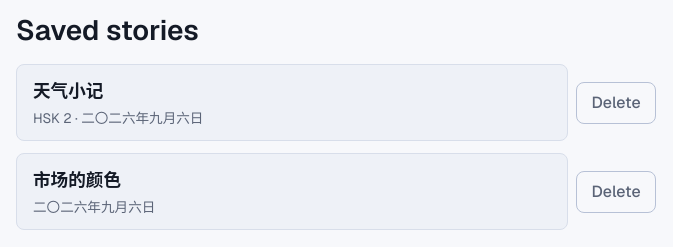
Test: StoriesPage › deleting a story › shows an accessible error and keeps the story when the delete fails
This screenshot has width=673, height=247.
Expected: the link "天气小记 HSK 2 · 二〇二六年九月六日" is shown, x1=16 y1=64 x2=568 y2=141
Step 1. Click the button "Delete" in the row of "天气小记" → click(616, 103), box x1=576 y1=82 x2=656 y2=124
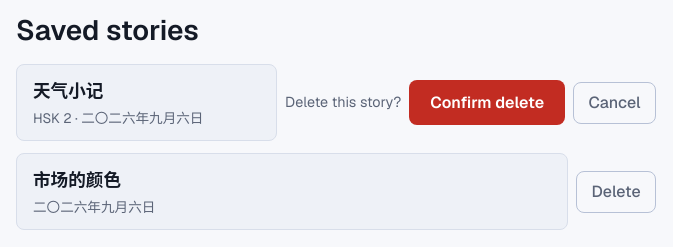
Step 2. Click the button "Confirm delete" → click(487, 103), box x1=409 y1=80 x2=565 y2=125
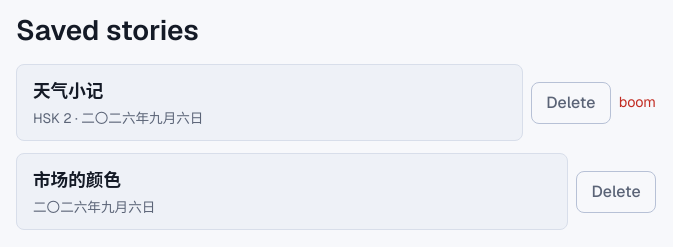
Expected: the link "天气小记 HSK 2 · 二〇二六年九月六日" is shown, x1=16 y1=64 x2=523 y2=141
Expected: the message reads "boom", x1=619 y1=93 x2=656 y2=111
